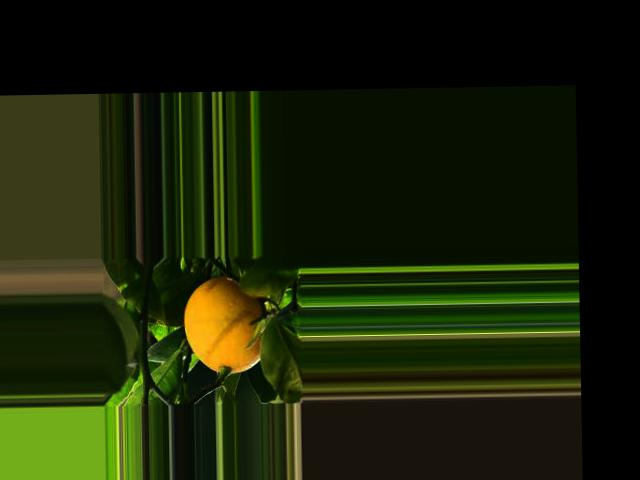lemon: (176, 272, 275, 378)
